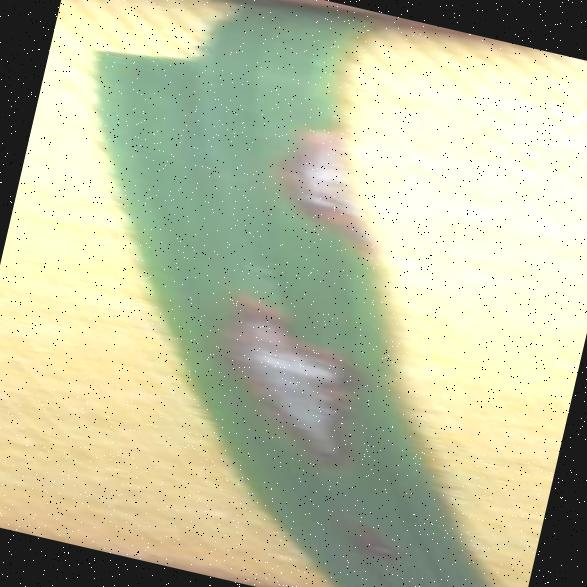Leaf_smut: (159, 256, 396, 477), (235, 79, 406, 267)
